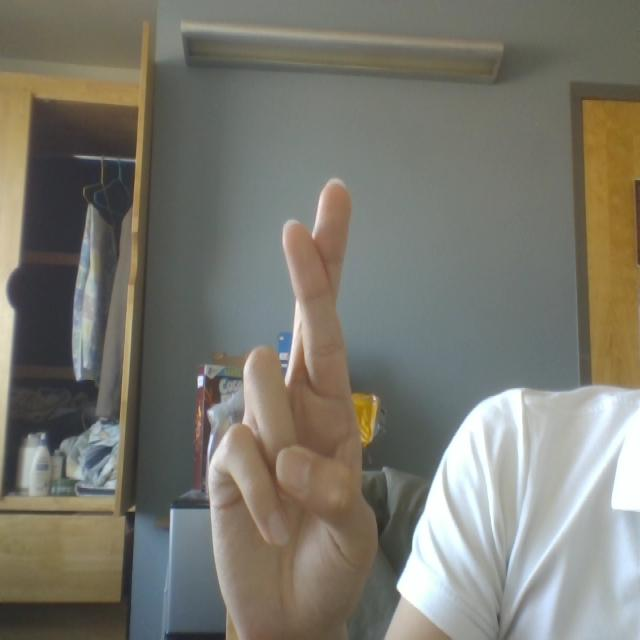R: (206, 149, 386, 640)
